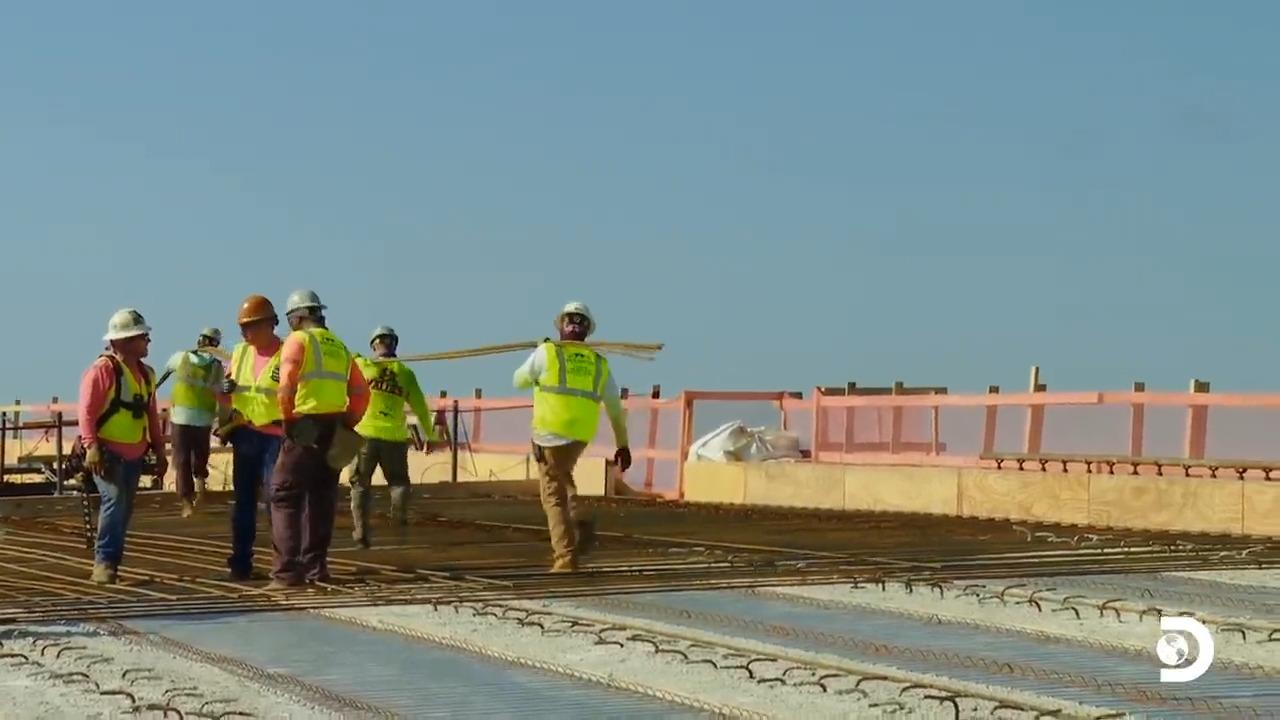Gloves: (85, 442, 105, 474), (612, 447, 633, 470), (219, 376, 241, 397), (269, 364, 281, 383)
Helmet: (102, 308, 151, 341), (554, 301, 595, 336), (236, 294, 278, 325), (284, 288, 327, 316), (368, 325, 398, 352), (197, 327, 222, 347)
Person: (511, 301, 631, 576), (267, 288, 371, 586), (76, 308, 169, 584), (214, 294, 286, 581), (347, 325, 433, 548), (157, 326, 233, 518)
Safety Boot: (90, 561, 121, 585), (261, 579, 307, 593), (545, 559, 577, 579)
Safety Vest: (539, 356, 606, 441), (103, 366, 162, 450), (366, 359, 414, 434), (293, 340, 347, 406), (238, 350, 288, 415), (179, 360, 220, 422)
